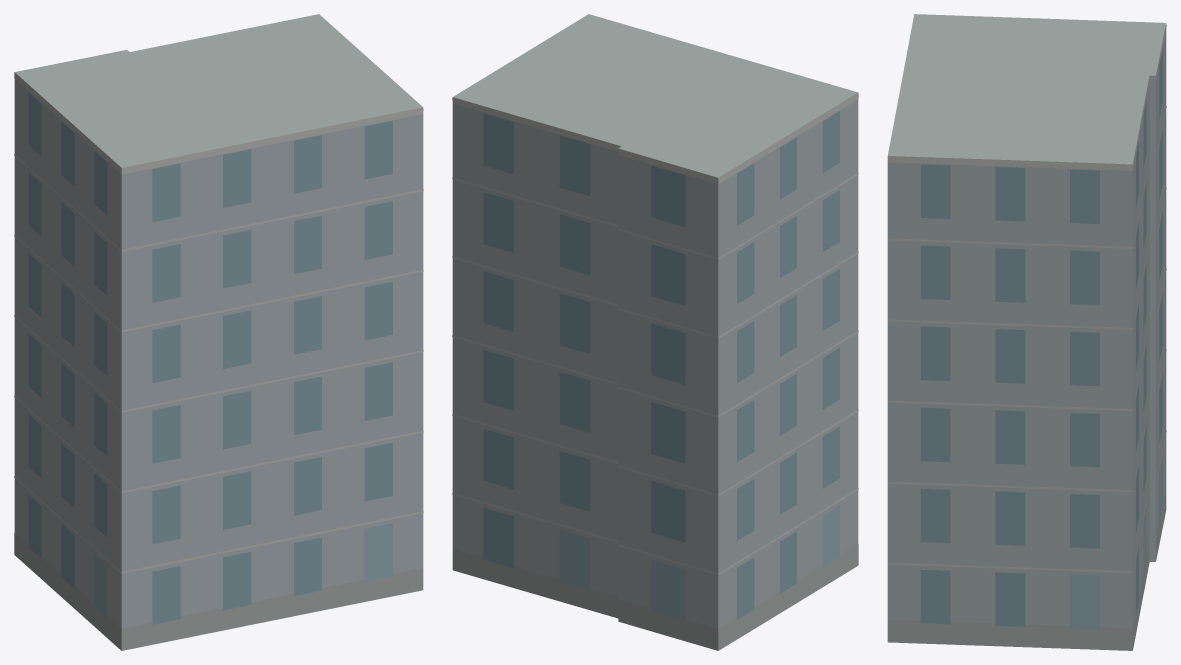
File: survey-upis-33018258.glb
3 views of the same model, side by side, from view 1: azimuth 30°, elevation 25°; view 2: azimuth 150°, elevation 25°; view 3: azimuth 270°, elevation 25° (orthographic). The views are drawn at different scales.
Parts seen in each view (by area): view 1: survey-upis-33018258.tmp; view 2: survey-upis-33018258.tmp; view 3: survey-upis-33018258.tmp.
Part boxes in pixels (left/top/right/bottom): survey-upis-33018258.tmp: left=14, top=14, right=423, bottom=650; survey-upis-33018258.tmp: left=452, top=14, right=858, bottom=650; survey-upis-33018258.tmp: left=887, top=14, right=1166, bottom=650.
Bounding box in the file's own units: 11.99 × 18.05 × 9.39.
